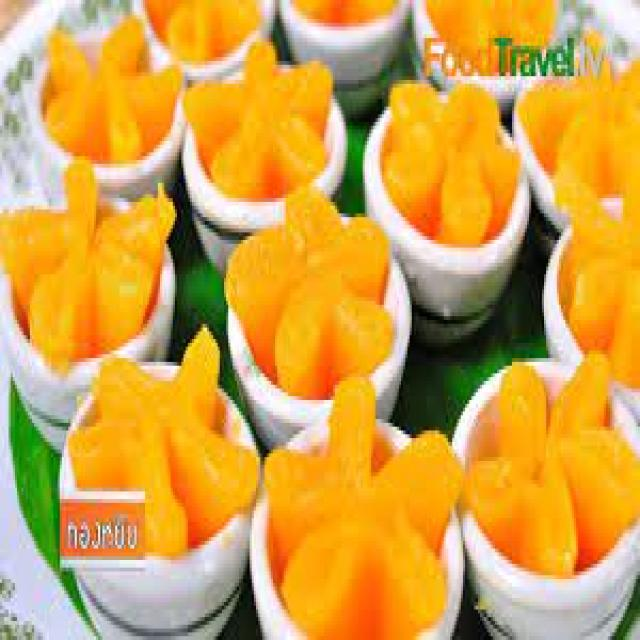Tongyib: (250, 340, 466, 640), (437, 328, 640, 602), (67, 318, 253, 570), (224, 171, 406, 395), (0, 183, 182, 384), (532, 145, 640, 397), (377, 75, 517, 265), (185, 44, 338, 198), (510, 37, 640, 216), (39, 25, 183, 180)
